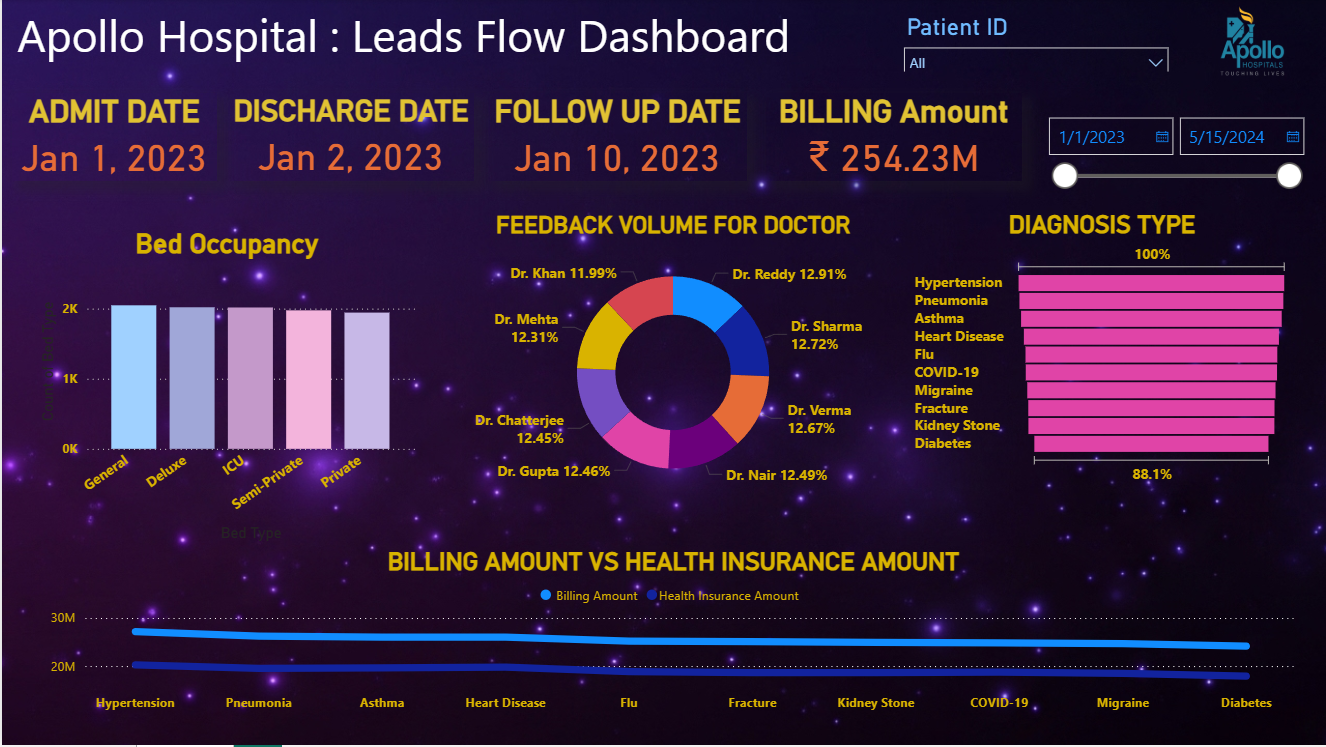

The page's visual inventory and layout, read from the dashboard file:
{"tool":"powerbi","page":{"name":"Page 2","canvas":[1280,720],"ordinal":0},"visuals":[{"type":"textbox","box":[10,0,1237.1,78.6],"z":0},{"type":"image","box":[1135.7,1.4,144.3,78.6],"z":1000},{"type":"slicer","fields":{"Values":["updated_patient_records_dataset.Patient ID"]},"box":[860,8.6,275.7,61.4],"z":2000},{"type":"card","title":"ADMIT DATE","fields":{"Values":["updated_patient_records_dataset.Admit Date"]},"box":[9.7,90.5,197.9,85.7],"z":3000},{"type":"card","title":"DISCHARGE DATE","fields":{"Values":["updated_patient_records_dataset.Discharge Date"]},"box":[218.2,90.6,237.4,85.1],"z":4000},{"type":"card","title":"FOLLOW UP DATE","fields":{"Values":["updated_patient_records_dataset.Follow-up Date"]},"box":[469.3,90.6,249.7,85.1],"z":5000},{"type":"card","title":"BILLING Amount","fields":{"Values":["updated_patient_records_dataset.Billing Amount (INR)"]},"box":[736.9,90.6,247,85.1],"z":6000},{"type":"slicer","fields":{"Values":["updated_patient_records_dataset.Admit Date"]},"box":[997.6,90.6,266.2,94.7],"z":7000},{"type":"columnChart","title":"Bed Occupancy ","fields":{"Y":["updated_patient_records_dataset.Bed Type"],"Category":["updated_patient_records_dataset.Bed Type"]},"box":[31.6,220.9,371.9,307.4],"z":8000},{"type":"donutChart","title":"FEEDBACK VOLUME FOR DOCTOR","fields":{"Category":["updated_patient_records_dataset.Doctor"],"Y":["updated_patient_records_dataset.Doctor"]},"box":[456,203.9,383.6,287.1],"z":9000},{"type":"funnel","title":"DIAGNOSIS TYPE","fields":{"Category":["updated_patient_records_dataset.Diagnosis"],"Y":["updated_patient_records_dataset.Diagnosis"]},"box":[875.5,204.5,371.9,269],"z":10000},{"type":"lineChart","title":"BILLING AMOUNT VS HEALTH INSURANCE AMOUNT","fields":{"Category":["updated_patient_records_dataset.Diagnosis"],"Y":["updated_patient_records_dataset.Billing Amount (INR)","updated_patient_records_dataset.Health Insurance Amount (INR)"]},"box":[42.5,528.3,1211.7,168.8],"z":11000}]}

Visuals, with their boxes in screenshot pixels (x1, y1, x2, y2), scaled from the page's 1280x720 canvas onto the 1326x747 screenshot:
textbox: [x1=10, y1=0, x2=1292, y2=82]
image: [x1=1177, y1=1, x2=1325, y2=83]
slicer - updated_patient_records_dataset.Patient ID: [x1=891, y1=9, x2=1177, y2=73]
"ADMIT DATE" card: [x1=10, y1=94, x2=215, y2=183]
"DISCHARGE DATE" card: [x1=226, y1=94, x2=472, y2=182]
"FOLLOW UP DATE" card: [x1=486, y1=94, x2=745, y2=182]
"BILLING Amount" card: [x1=763, y1=94, x2=1019, y2=182]
slicer - updated_patient_records_dataset.Admit Date: [x1=1033, y1=94, x2=1309, y2=192]
"Bed Occupancy " columnChart: [x1=33, y1=229, x2=418, y2=548]
"FEEDBACK VOLUME FOR DOCTOR" donutChart: [x1=472, y1=212, x2=870, y2=509]
"DIAGNOSIS TYPE" funnel: [x1=907, y1=212, x2=1292, y2=491]
"BILLING AMOUNT VS HEALTH INSURANCE AMOUNT" lineChart: [x1=44, y1=548, x2=1299, y2=723]
